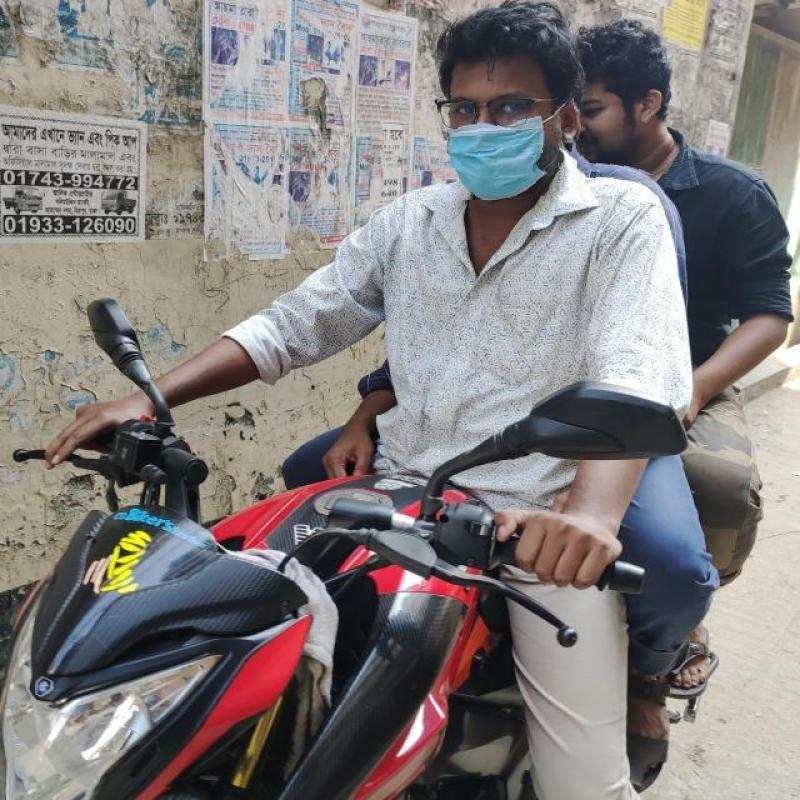nohelmet: (434, 7, 576, 200), (572, 7, 686, 178)
